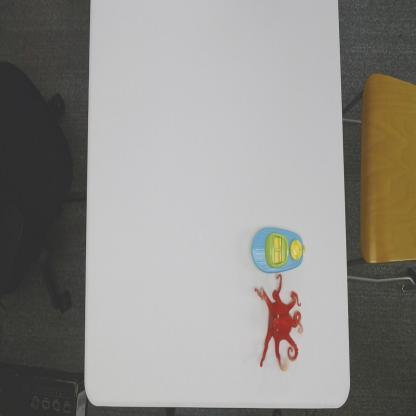Boat: (250, 225, 306, 275)
Octopus: (253, 273, 304, 374)
